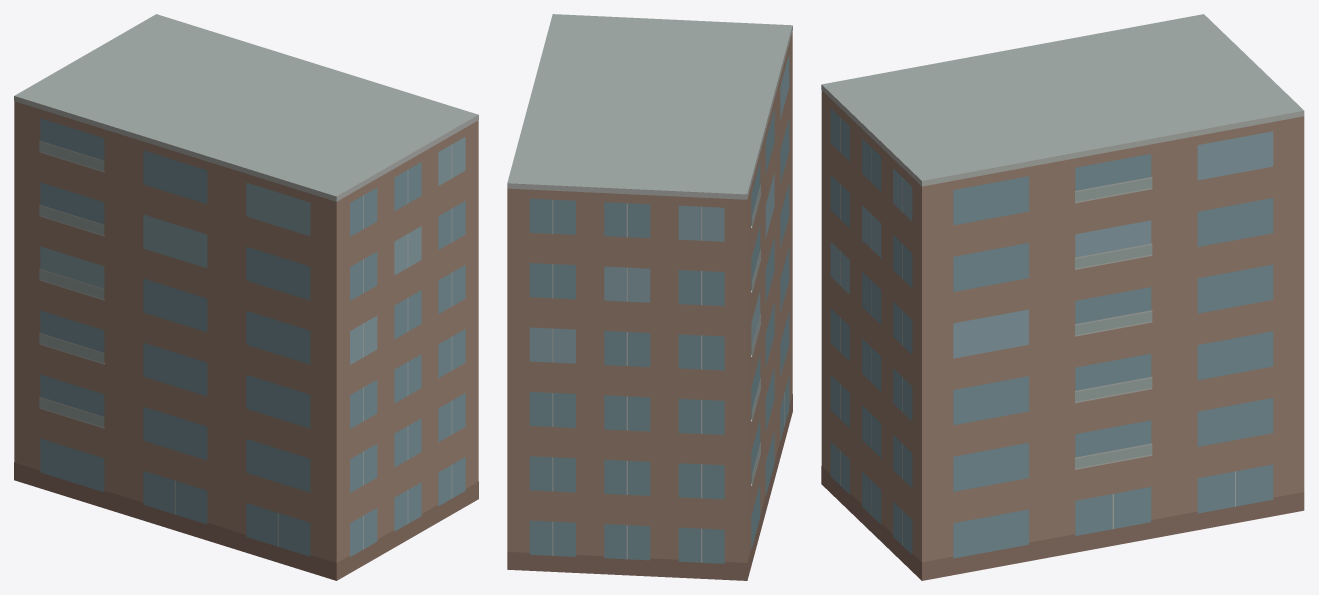
Rendered from survey-upis-32877478.glb.
3 views of the same model, side by side, from view 1: azimuth 30°, elevation 25°; view 2: azimuth 150°, elevation 25°; view 3: azimuth 270°, elevation 25° (orthographic). The views are drawn at different scales.
Parts seen in each view (by area): view 1: survey-upis-32877478.tmp; view 2: survey-upis-32877478.tmp; view 3: survey-upis-32877478.tmp.
Boxes of the visible parts, bbox=[...] form: survey-upis-32877478.tmp: bbox=[14, 14, 478, 580]; survey-upis-32877478.tmp: bbox=[507, 14, 792, 580]; survey-upis-32877478.tmp: bbox=[821, 14, 1304, 580].
Size of the model in its own units: 15.96 by 17.8 by 19.5.
